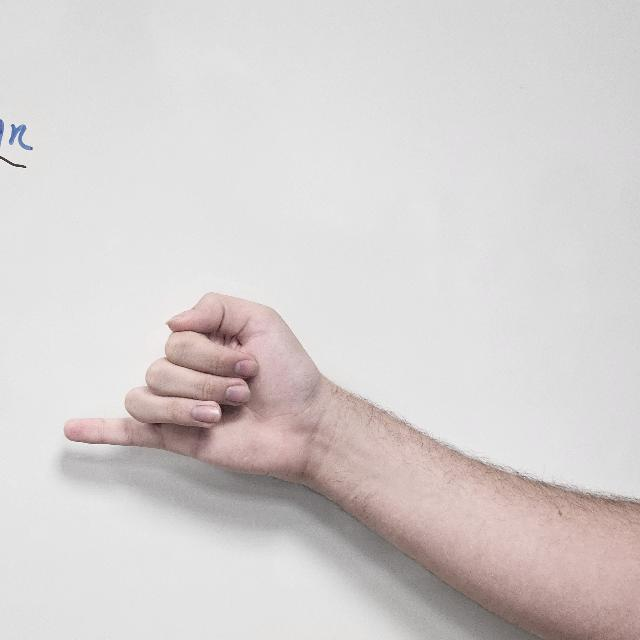Esquerda: (61, 268, 372, 507)
